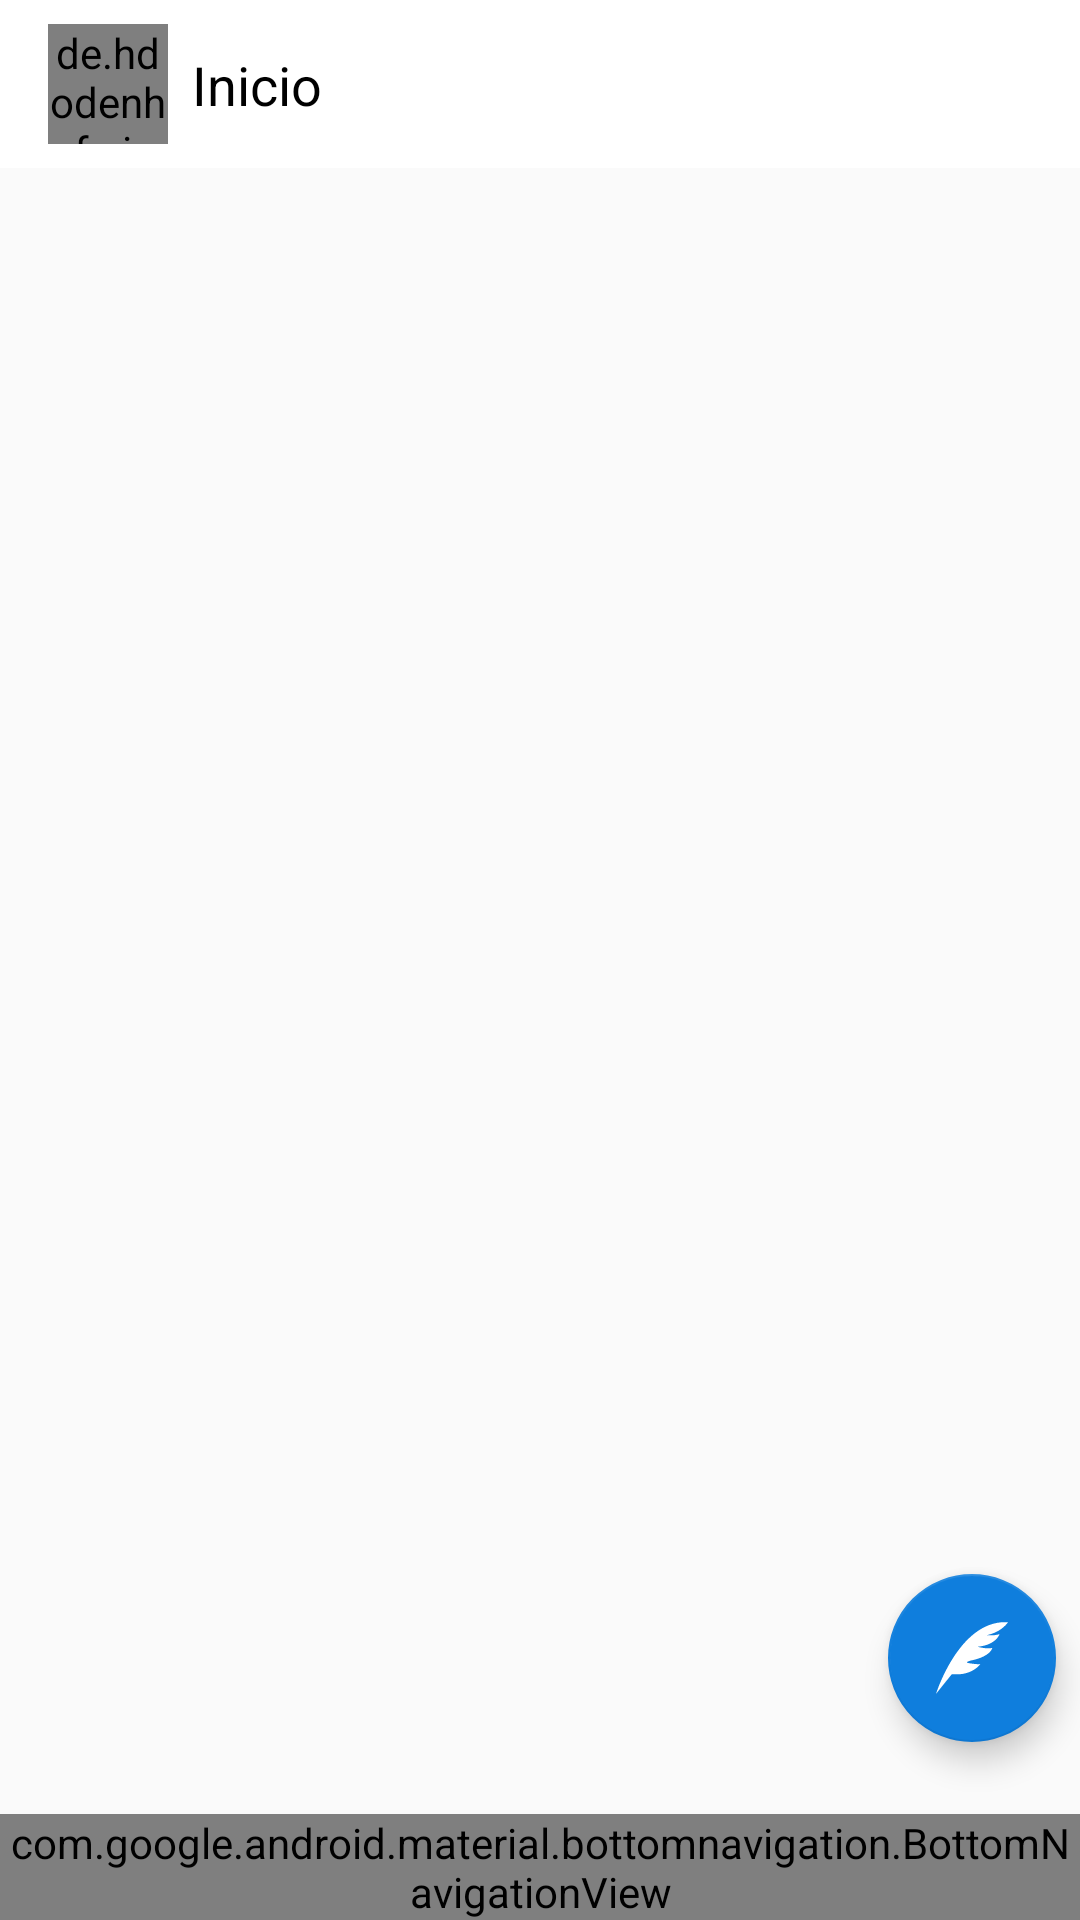

Icon click points for this 1080px×1920px phone screenshot, format (x=x, y=y):
write tweet: (x=972, y=1658)
